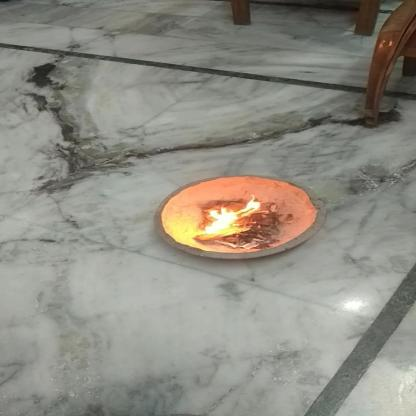fire: (196, 194, 269, 239)
